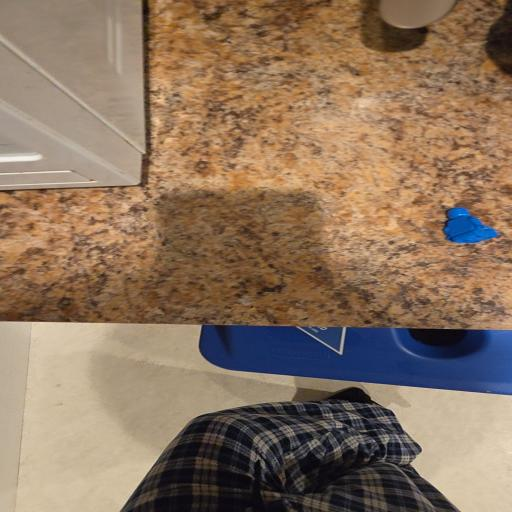Blue: (443, 208, 498, 243)
